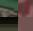anvil: (0, 0, 18, 17)
zombie: (0, 17, 18, 31)
